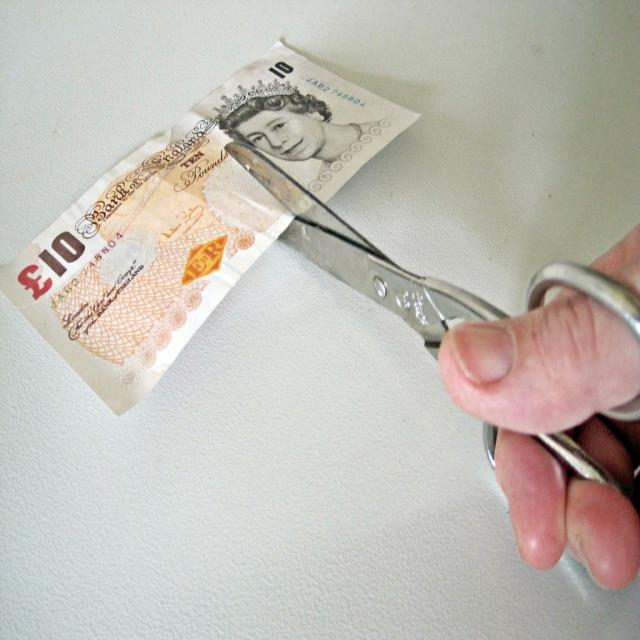scissors: (224, 138, 638, 508)
